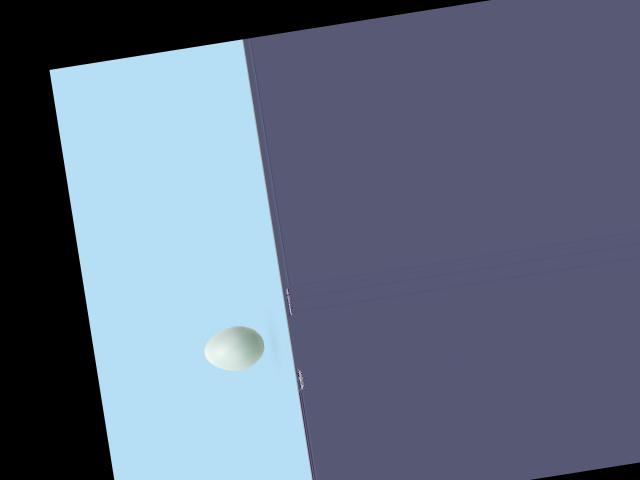egg: (200, 321, 266, 374)
